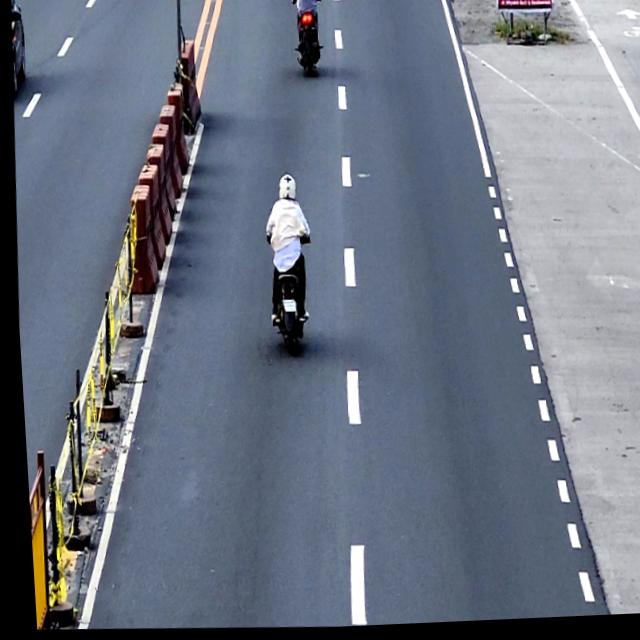License-Plate: (277, 301, 293, 316)
Motorcycle: (256, 221, 313, 361), (290, 0, 325, 82)
